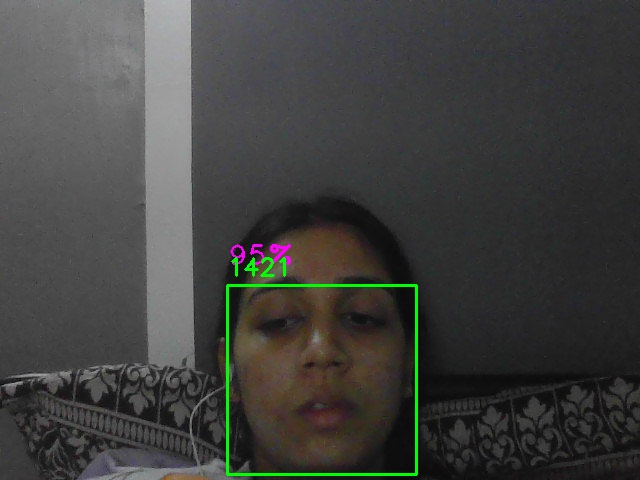real: (227, 285, 417, 475)
